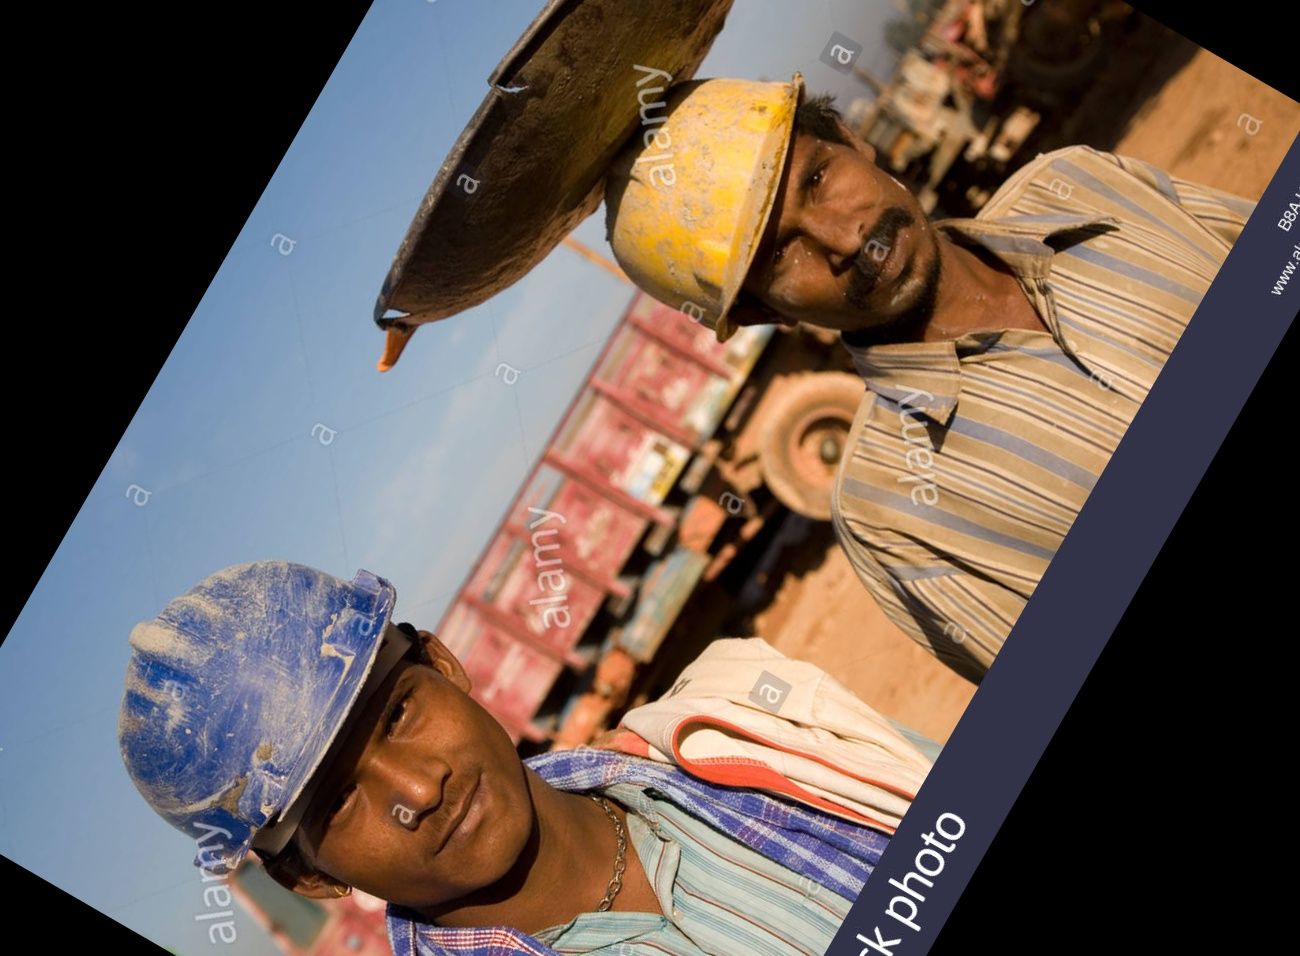NoJacket: (124, 562, 858, 956), (630, 82, 1168, 520)
